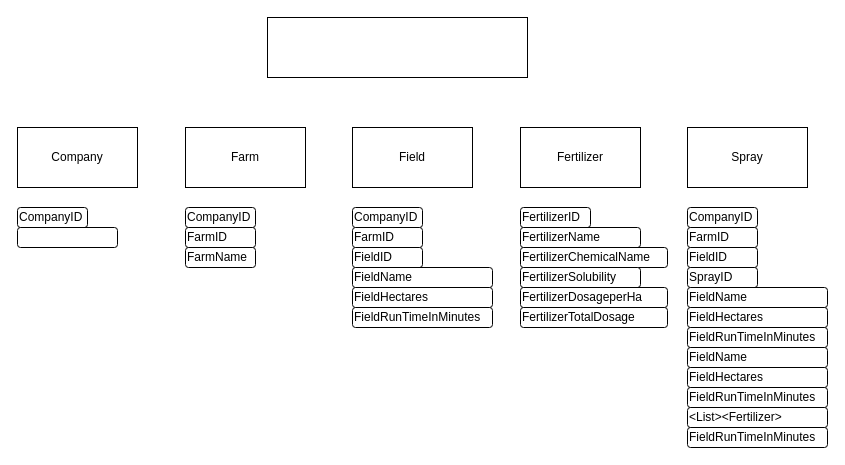
Some shapes in this 845 by 465 pixel diagram are drawn without their labels. Each missing label, with the centre of its shape:
CompanyName: (x=67, y=237)
Model: (x=397, y=47)
